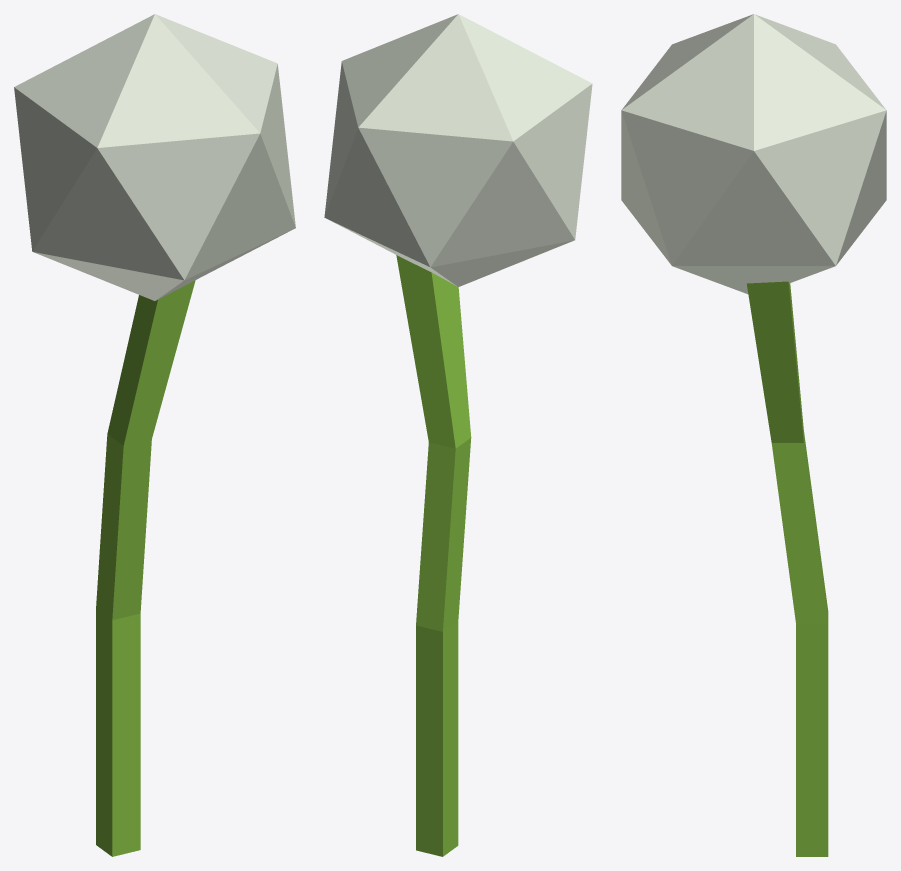
File: dandeliion-phase4.fbx
3 views of the same model, side by side, from view 1: azimuth 30°, elevation 25°; view 2: azimuth 150°, elevation 25°; view 3: azimuth 270°, elevation 25° (orthographic). The views are drawn at different scales.
Parts seen in each view (by area): view 1: phase-4; view 2: phase-4; view 3: phase-4.
Boxes of the visible parts, x1=… form: phase-4: x1=14, y1=14, x2=295, y2=856; phase-4: x1=324, y1=14, x2=592, y2=856; phase-4: x1=621, y1=14, x2=886, y2=856.
Size of the model in its own units: 31.32 by 104 by 29.79.
